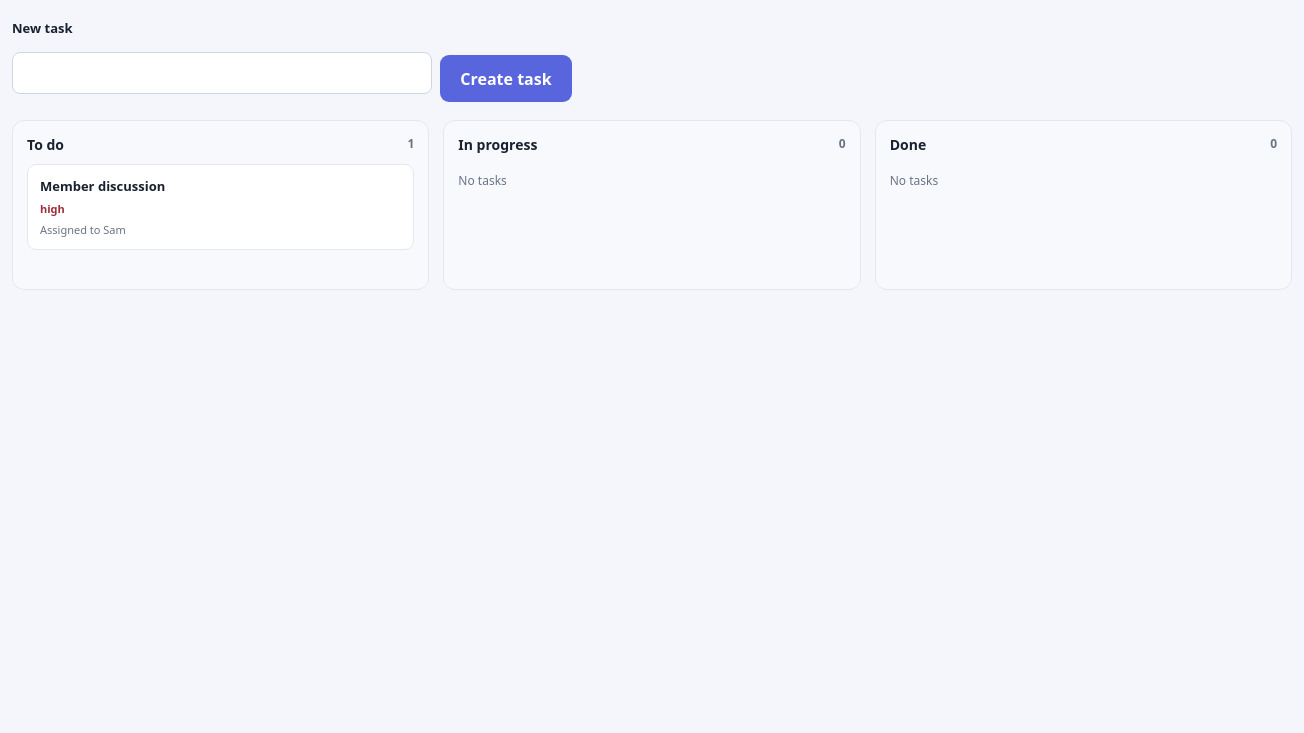
project task board › shows comments to members without exposing edit controls for another author's comment
The width and height of the screenshot is (1304, 733).
Click the button "Member discussion high Assigned to Sam" at (103, 186), box [27, 164, 414, 250]
(page scrolled)
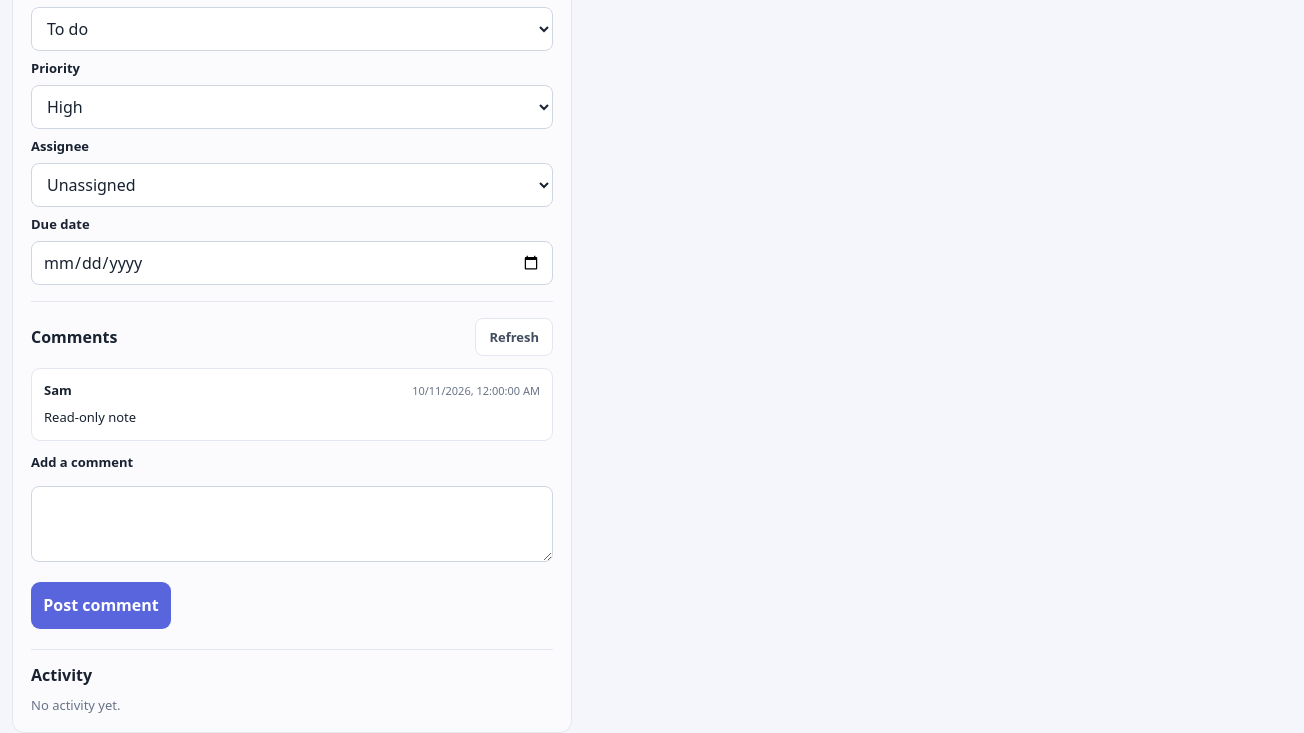
Expected: the text "Read-only note" is shown, [44, 408, 136, 426]
